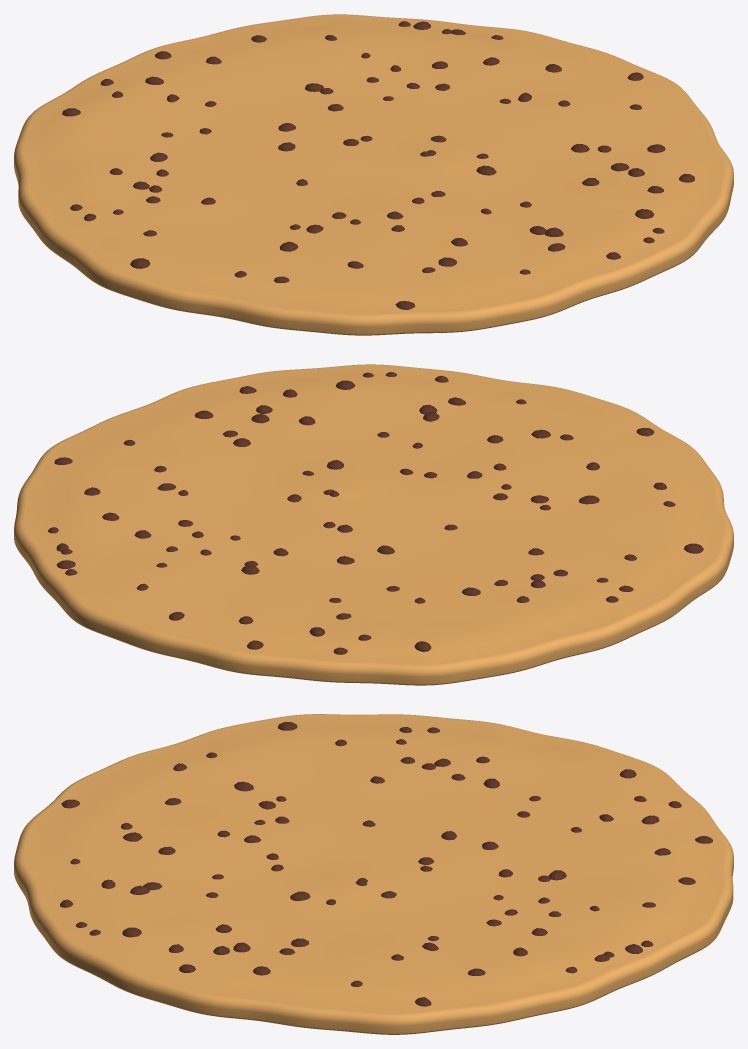
Rendered from GiantCookie.obj.
3 renders of one model, top to bottom at view 1: azimuth 30°, elevation 25°; view 2: azimuth 150°, elevation 25°; view 3: azimuth 270°, elevation 25°, orthographic.
Parts seen in each view (by area): view 1: Cookie, Chips; view 2: Cookie, Chips; view 3: Cookie, Chips.
Boxes of the visible parts, left/top/right/bottom form: Cookie: left=14, top=14, right=733, bottom=335; Chips: left=62, top=21, right=694, bottom=309; Cookie: left=14, top=364, right=733, bottom=685; Chips: left=48, top=372, right=703, bottom=654; Cookie: left=14, top=714, right=733, bottom=1034; Chips: left=60, top=722, right=712, bottom=1006.
Bounding box in the file's own units: 117 × 4.59 × 116.
